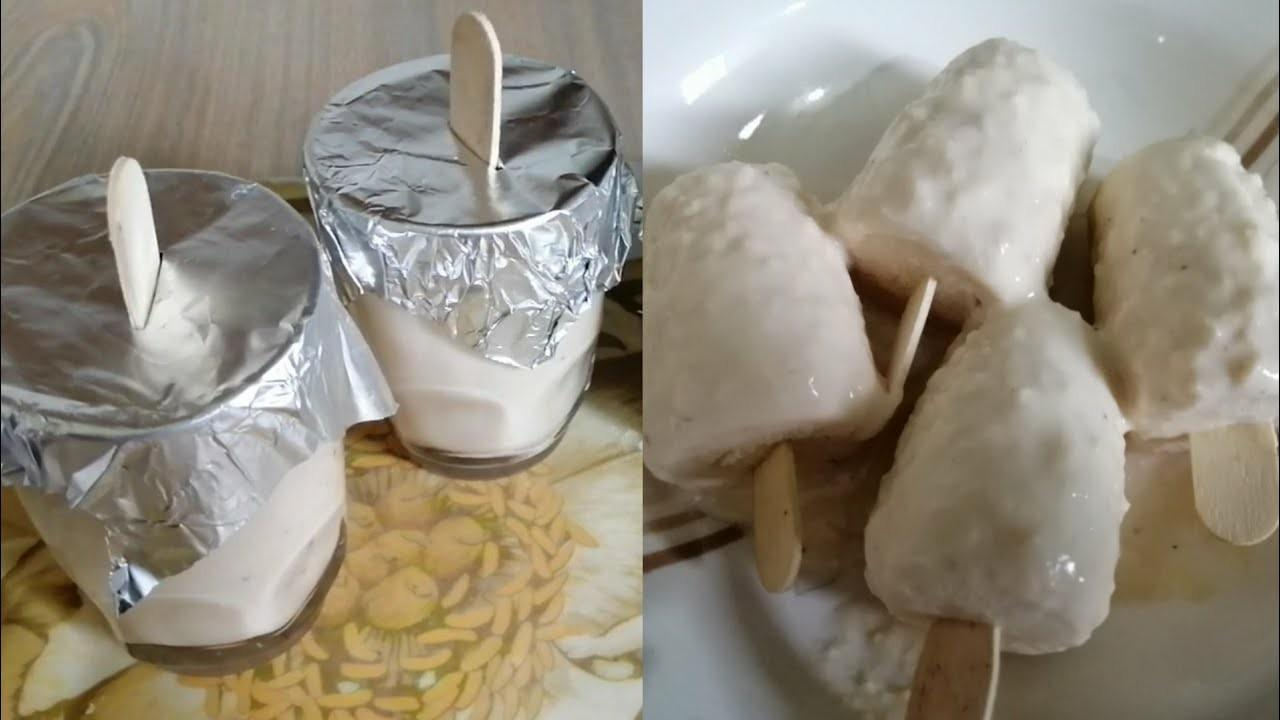Kulfi: (866, 307, 1132, 654), (643, 163, 889, 492), (838, 36, 1106, 325), (1085, 135, 1280, 456)
